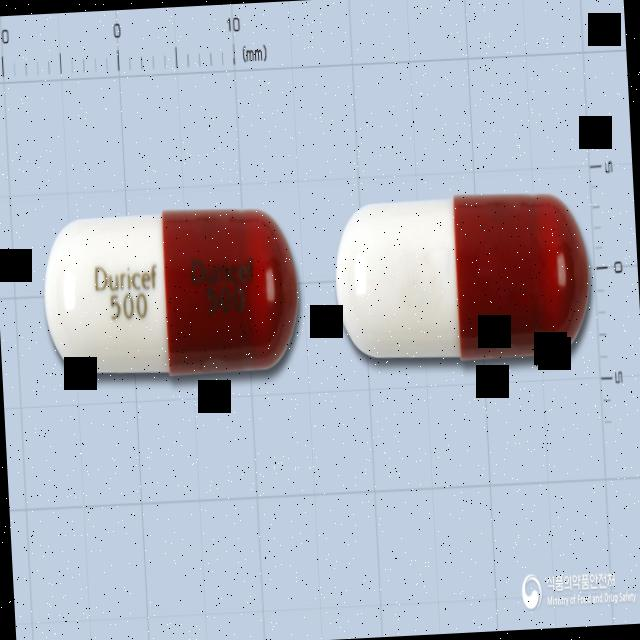Duricef Cap: (40, 202, 303, 384)
